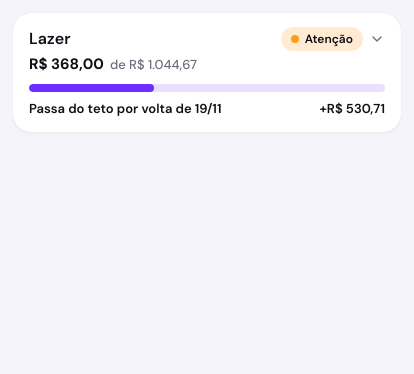
Scenario: meta do mês: etiqueta e chips no padrão do Ticket › período, regra e projeção saem da frente e ficam nos detalhes
Expected: the text "Projeção R$" is not shown
Step 1. Click the button with aria-label "Detalhes e ações" → [50, 38], box [13,13,401,132]
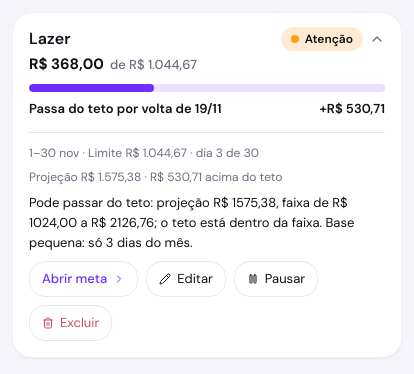
Now the text with test id "goal-details-rule" reads "1–30 nov · Limite R$ 1.044,67 · dia 3 de 30", box [29,145,259,161]
Now the text "Projeção R$ 1.575,38 · R$ 530,71 acima do teto" is shown, box [29,169,282,185]
